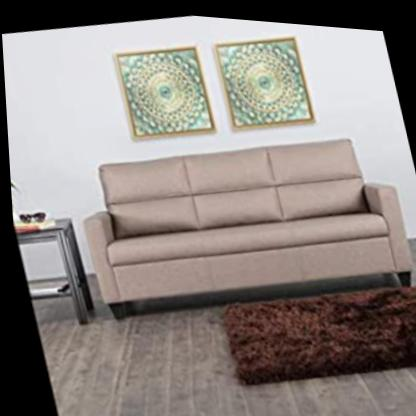Sofa: (61, 107, 416, 335)
